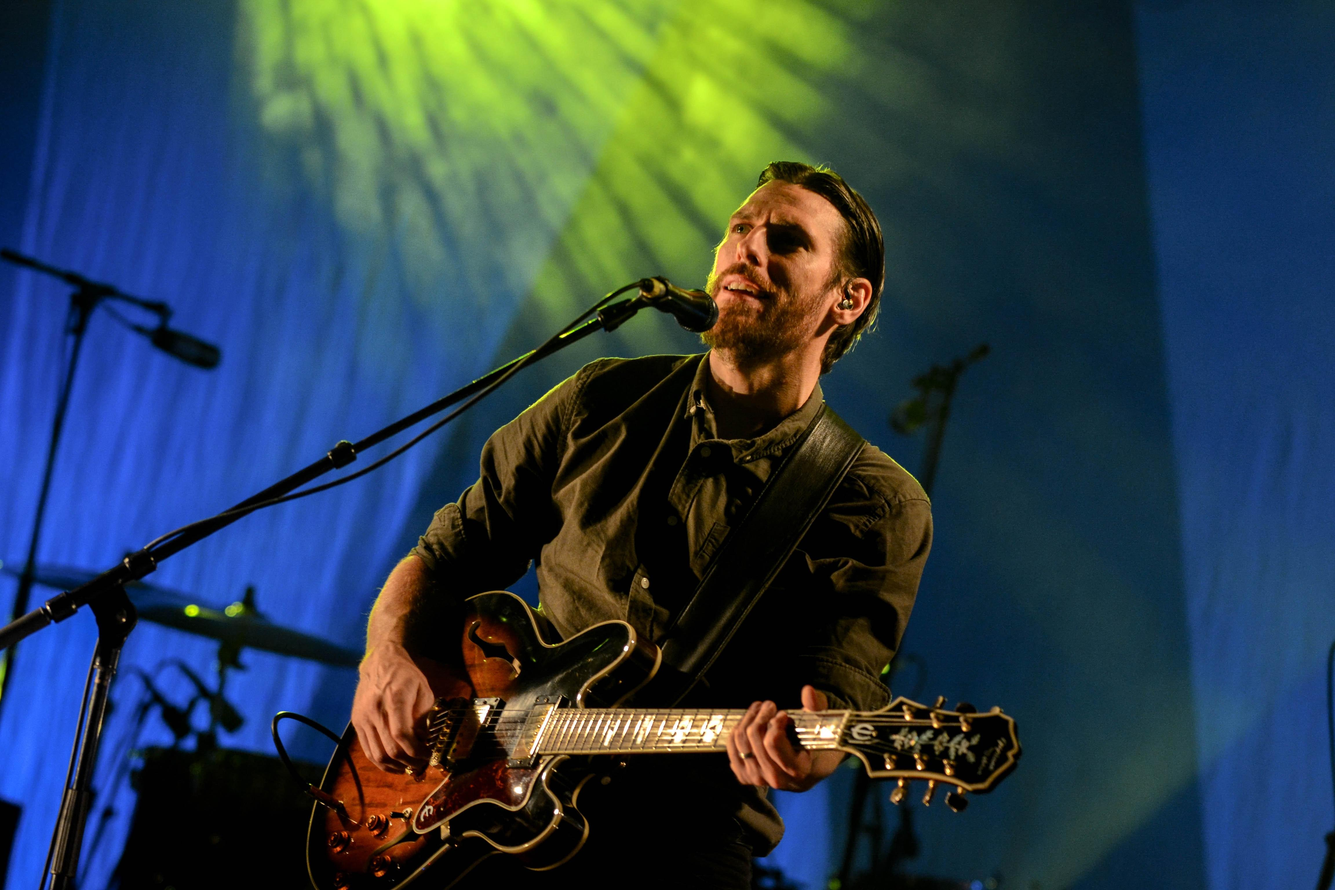acousticguitar: (307, 587, 1022, 888)
